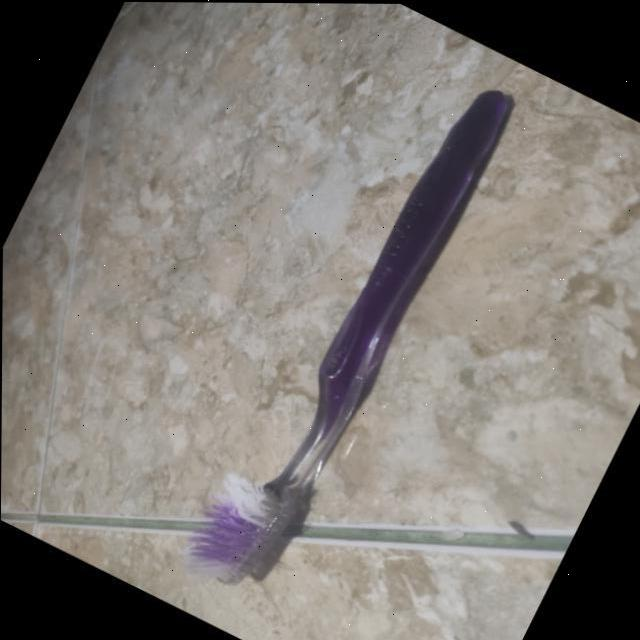toothbrush: (177, 42, 535, 610)
